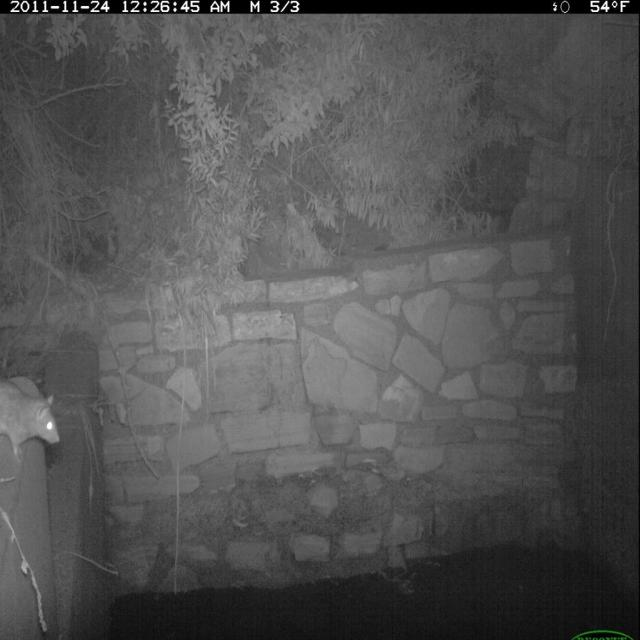rodent: (1, 372, 67, 472)
